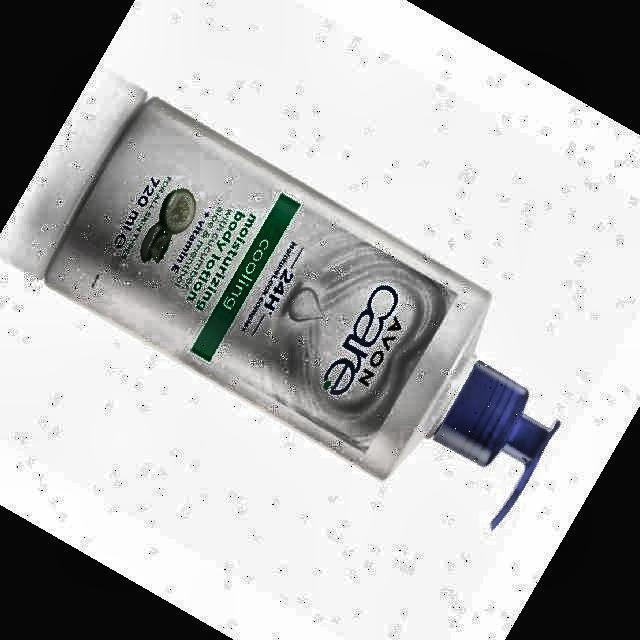plastic: (46, 99, 559, 513)
